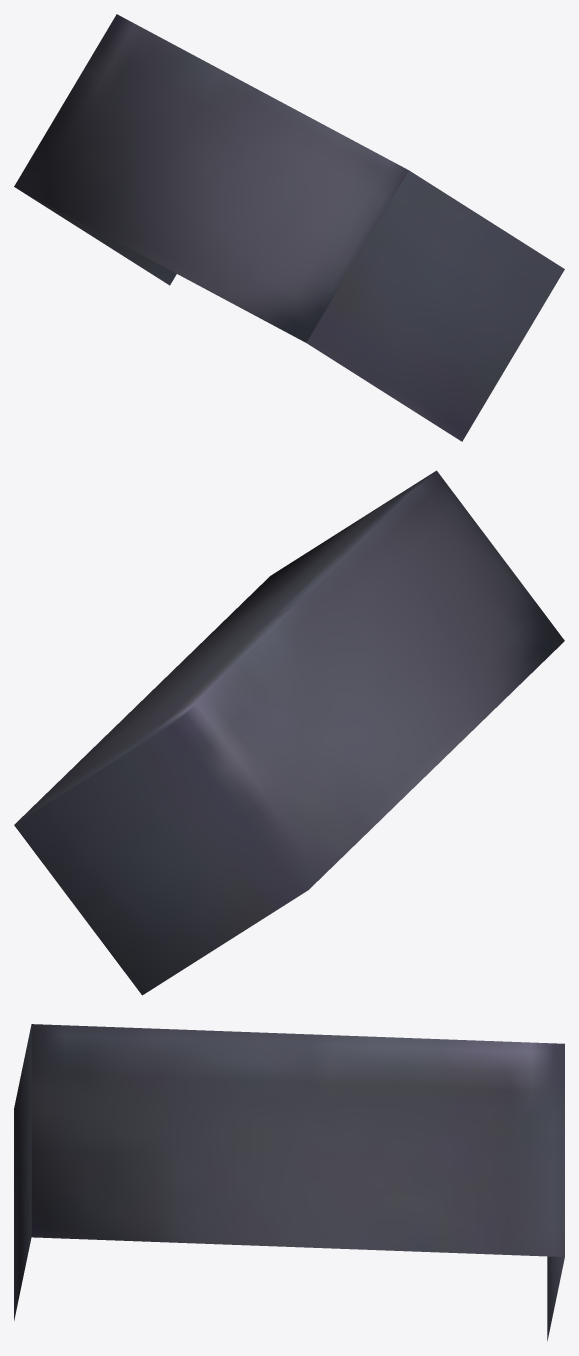
Rendered from Beidaying_podunzi04.FBX.
3 renders of one model, top to bottom at view 1: azimuth 30°, elevation 25°; view 2: azimuth 150°, elevation 25°; view 3: azimuth 270°, elevation 25°, orthographic. The views are drawn at different scales.
Visible parts, largest first — view 1: Beidaying_podunzi04; view 2: Beidaying_podunzi04; view 3: Beidaying_podunzi04.
Boxes of the visible parts, x1,y1,x2,y2 form: Beidaying_podunzi04: (14, 14, 564, 441); Beidaying_podunzi04: (14, 470, 564, 995); Beidaying_podunzi04: (14, 1024, 564, 1341).
Bounding box in the file's own units: 22.25 × 36.14 × 22.35.
